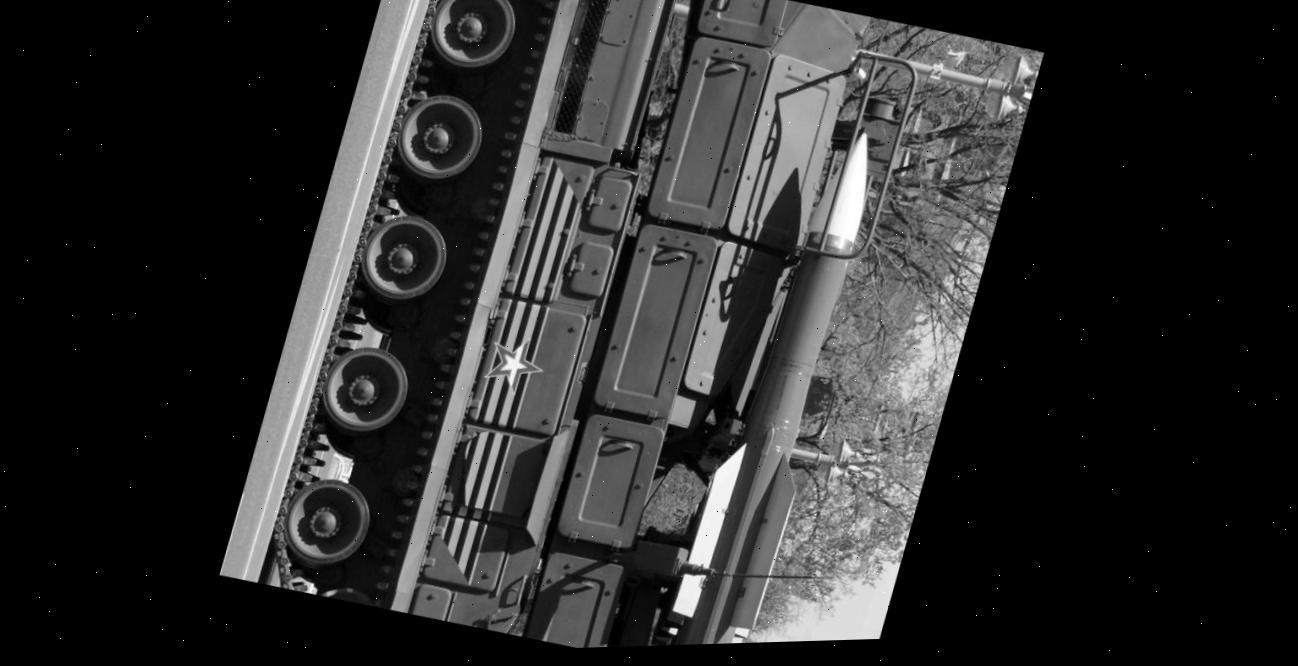rszo: (215, 0, 947, 659)
